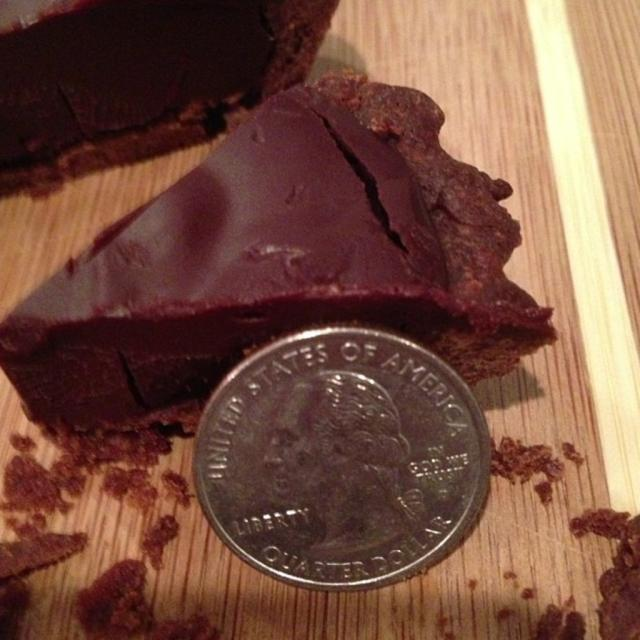Coin: (196, 322, 493, 591)
